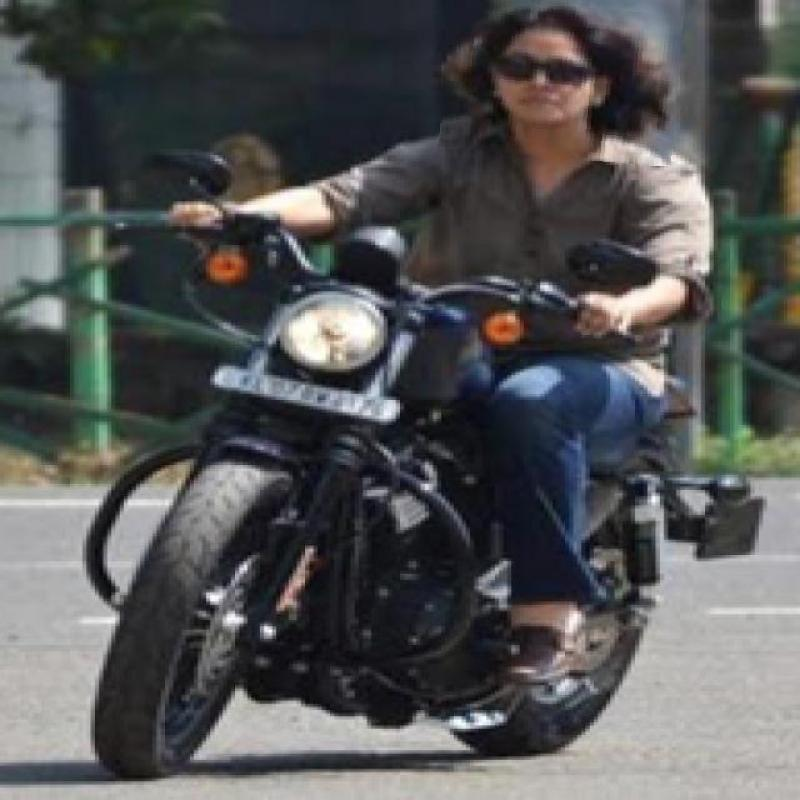nohelmet: (441, 0, 680, 162)
